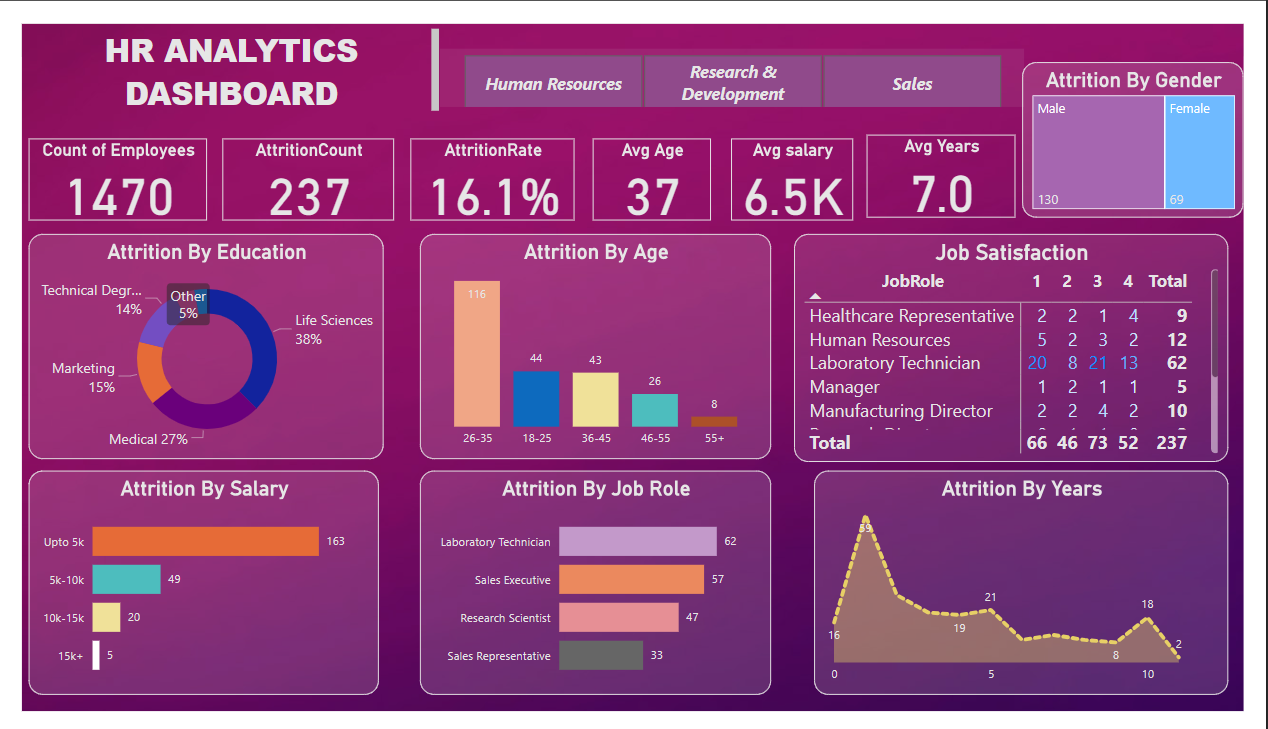

Layout of this report page (visuals, bound fields, positions):
{"tool":"powerbi","page":{"name":"Page 1","canvas":[1280,720],"ordinal":0},"visuals":[{"type":"card","title":"Count of Employees","fields":{"Values":["Count(HR_Analytics.EmpID)"]},"box":[6.9,119.5,187.1,86.6],"z":0},{"type":"card","title":"AttritionCount","fields":{"Values":["Sum(HR_Analytics.AttritionCount)"]},"box":[209.6,119.5,180.1,86.6],"z":1000},{"type":"card","title":"AttritionRate","fields":{"Values":["HR_Analytics.AttritionRate"]},"box":[407,119.5,171.5,86.6],"z":2000},{"type":"card","title":"Avg Age","fields":{"Values":["Avg(HR_Analytics.Age)"]},"box":[597.6,119.5,124.7,86.6],"z":3000},{"type":"card","title":"Avg salary","fields":{"Values":["Avg(HR_Analytics.MonthlyIncome)"]},"box":[743.1,119.5,128.2,86.6],"z":4000},{"type":"card","title":"Avg Years","fields":{"Values":["Avg(HR_Analytics.YearsAtCompany)"]},"box":[885.1,116,155.9,86.6],"z":5000},{"type":"donutChart","title":"Attrition By Education","fields":{"Category":["HR_Analytics.EducationField"],"Y":["Sum(HR_Analytics.AttritionCount)"]},"box":[6.9,220,372.4,235.6],"z":6000},{"type":"columnChart","title":"Attrition By Age","fields":{"Category":["HR_Analytics.AgeGroup"],"Y":["Sum(HR_Analytics.AttritionCount)"]},"box":[417.4,220,367.2,235.6],"z":7000},{"type":"pivotTable","title":"Job Satisfaction","fields":{"Rows":["HR_Analytics.JobRole"],"Columns":["HR_Analytics.JobSatisfaction"],"Values":["Sum(HR_Analytics.AttritionCount)"]},"box":[808.9,220,455.5,239],"z":8000},{"type":"barChart","title":"Attrition By Salary","fields":{"Y":["Sum(HR_Analytics.AttritionCount)"],"Category":["HR_Analytics.SalarySlab"]},"box":[6.9,467.7,367.2,235.6],"z":9000},{"type":"barChart","title":"Attrition By Job Role","fields":{"Y":["Sum(HR_Analytics.AttritionCount)"],"Category":["HR_Analytics.JobRole"]},"box":[417.4,467.7,367.2,235.6],"z":10000},{"type":"areaChart","title":"Attrition By Years","fields":{"Category":["HR_Analytics.YearsAtCompany"],"Y":["Sum(HR_Analytics.AttritionCount)"]},"box":[829.7,467.7,434.7,235.6],"z":11000},{"type":"treemap","title":"Attrition By Gender","fields":{"Values":["Sum(HR_Analytics.AttritionCount)"],"Group":["HR_Analytics.Gender"]},"box":[1047.9,39.8,232.1,162.8],"z":12000},{"type":"slicer","fields":{"Values":["HR_Analytics.Department"]},"box":[438.2,26,611.4,60.6],"z":13000},{"type":"textbox","box":[5.2,0,436.5,105.7],"z":13001}]}

Visuals, with their boxes in screenshot pixels (x1, y1, x2, y2), scaled from the page's 1280x720 canvas onto the 1268x729 screenshot:
"Count of Employees" card: [7,121,192,209]
"AttritionCount" card: [208,121,386,209]
"AttritionRate" card: [403,121,573,209]
"Avg Age" card: [592,121,716,209]
"Avg salary" card: [736,121,863,209]
"Avg Years" card: [877,117,1031,205]
"Attrition By Education" donutChart: [7,223,376,461]
"Attrition By Age" columnChart: [413,223,777,461]
"Job Satisfaction" pivotTable: [801,223,1253,465]
"Attrition By Salary" barChart: [7,474,371,712]
"Attrition By Job Role" barChart: [413,474,777,712]
"Attrition By Years" areaChart: [822,474,1253,712]
"Attrition By Gender" treemap: [1038,40,1267,205]
slicer - HR_Analytics.Department: [434,26,1040,88]
textbox: [5,0,438,107]
